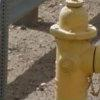Hydrant: (42, 0, 100, 100)
